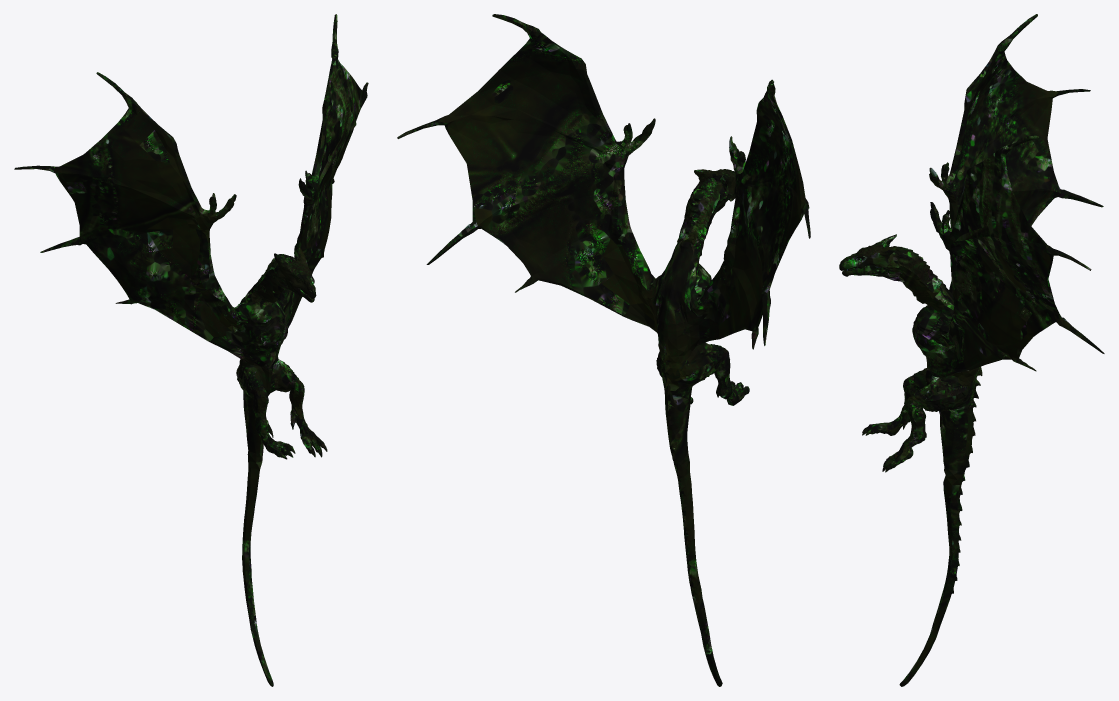
The model's file is frame_0023_uv.obj.
The picture shows the model from 3 angles, left to right: view 1: azimuth 30°, elevation 25°; view 2: azimuth 150°, elevation 25°; view 3: azimuth 270°, elevation 25°; orthographic projection. The views are drawn at different scales.
Visible parts, largest first — view 1: pMesh1; view 2: pMesh1; view 3: pMesh1.
Part boxes in pixels (x1,y1,x2,y2): pMesh1: (14,14,368,686); pMesh1: (397,14,810,686); pMesh1: (839,14,1104,686).
Bounding box in the file's own units: 9.93 × 15.9 × 6.19.
